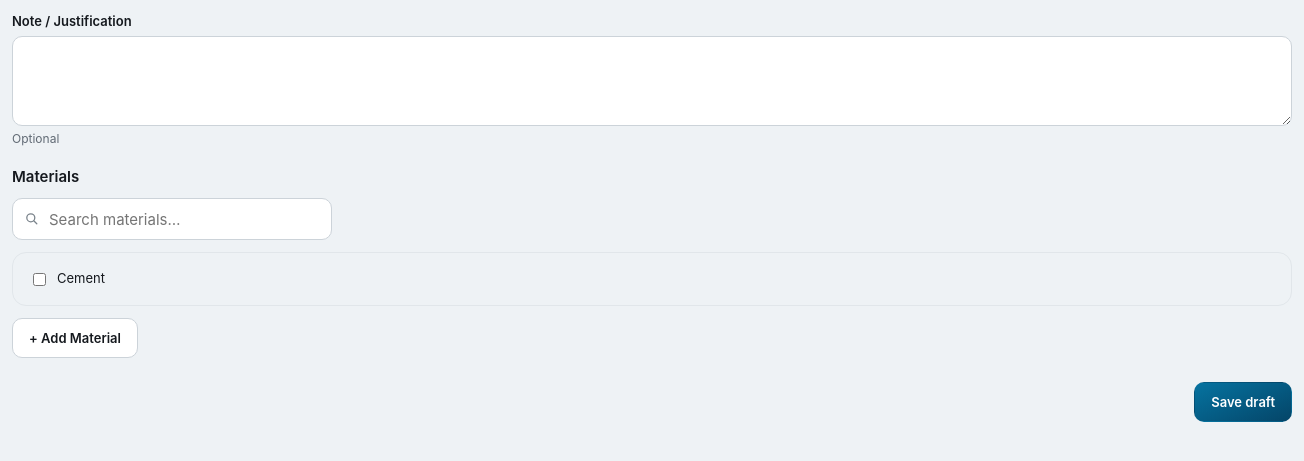
Test case: DemandForm — catalog picker › checking an item reveals a quantity field
Click the checkbox labelled "Cement" at (40, 279), box [33,272,46,286]
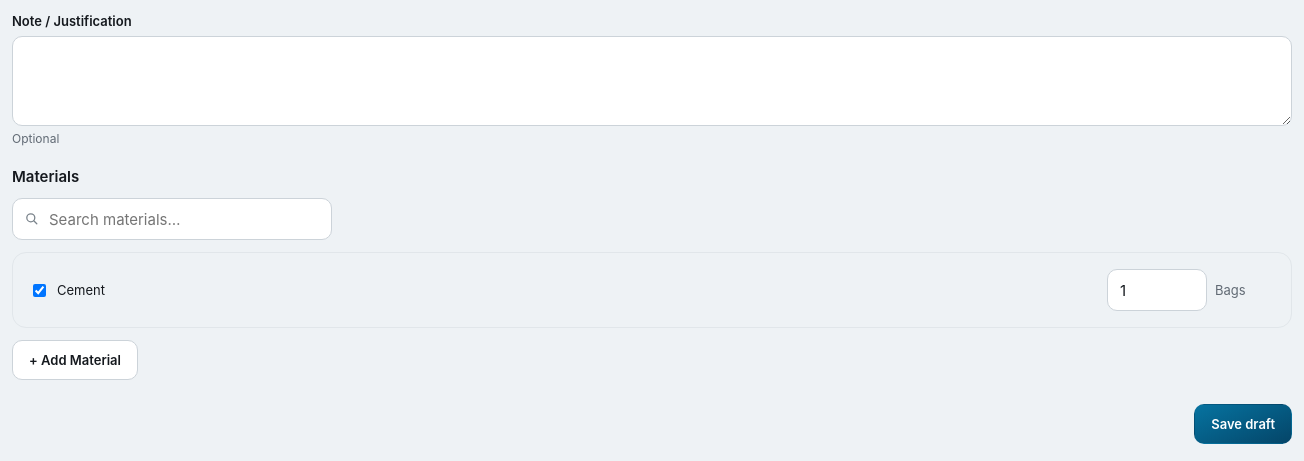
Expected: the number field named "Quantity for Cement" is shown, [1107,269,1207,311]
